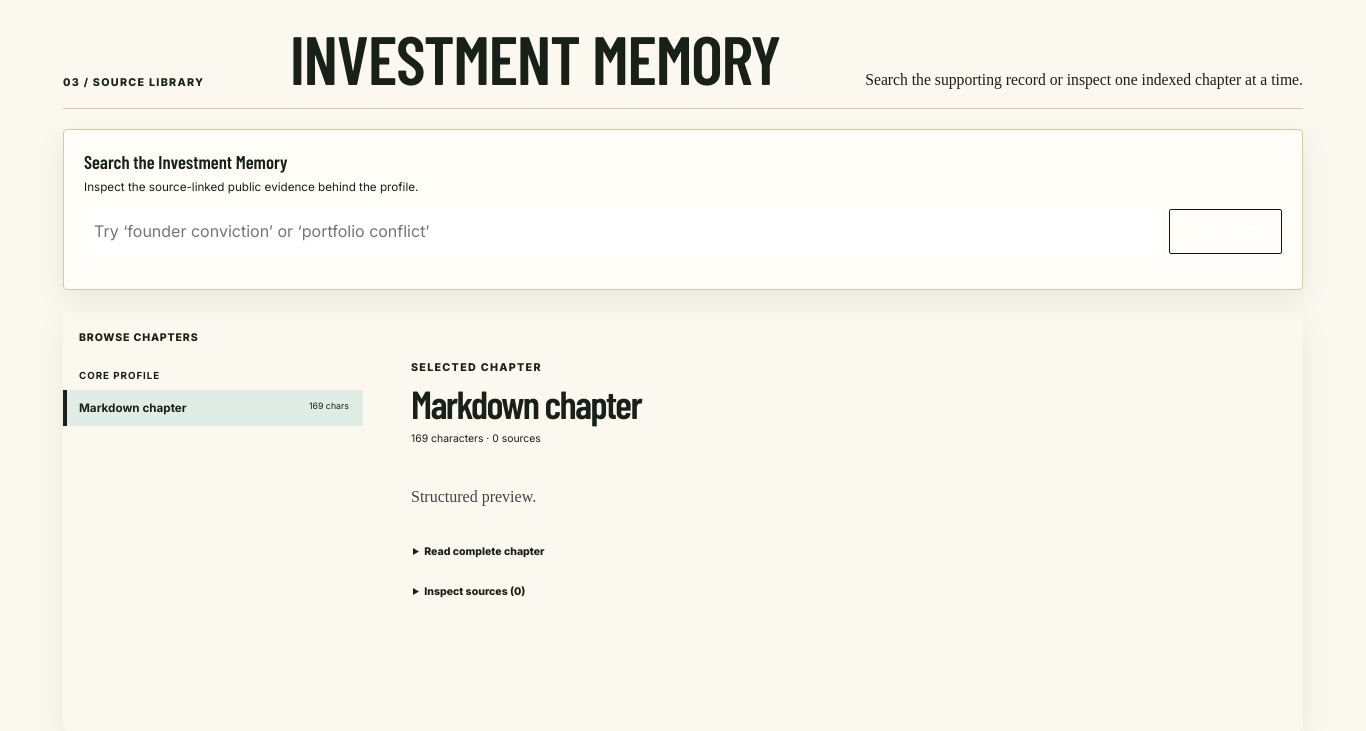
Test: InvestmentMemoryLibrary › renders complete chapter Markdown as safe semantic content
Click the heading "Read complete chapter" at (484, 552), box [424, 545, 544, 558]
(page scrolled)
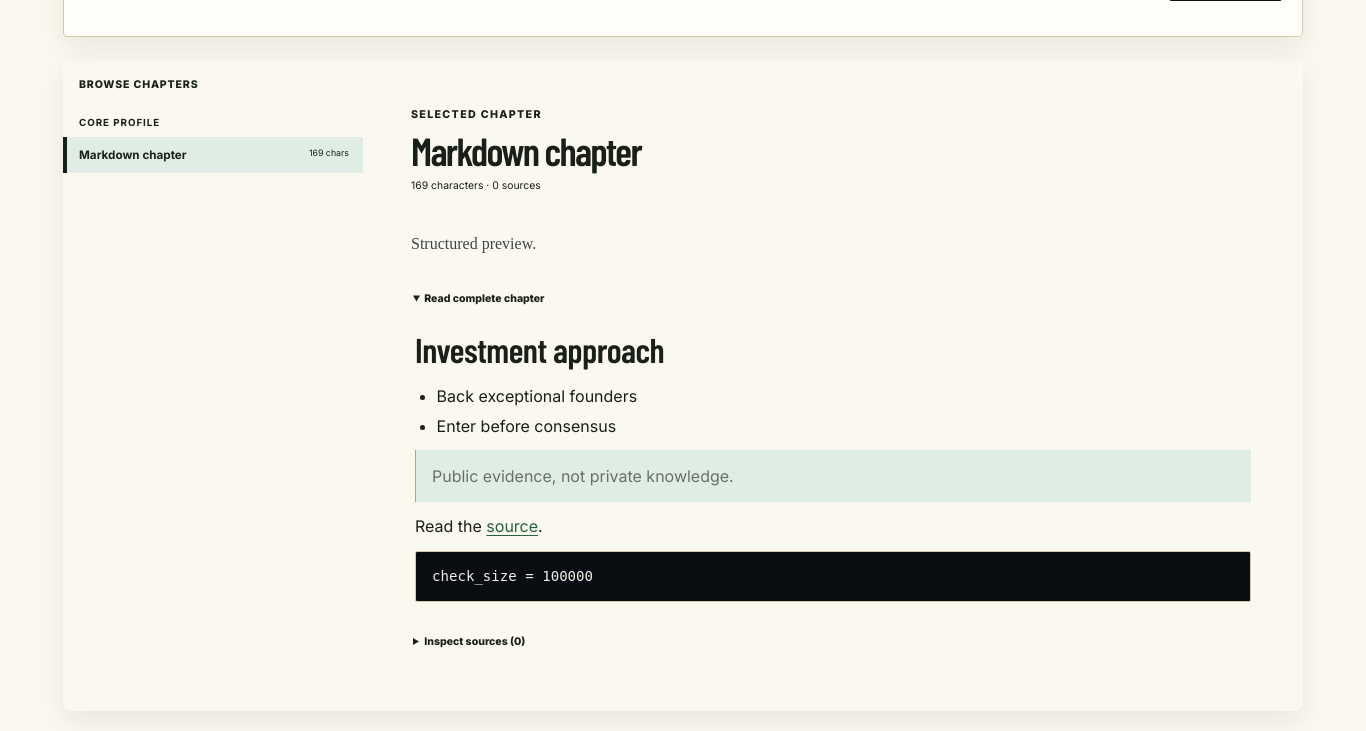
Result: the heading "Investment approach" is shown at [415, 330, 664, 370]
Result: the list "Back exceptional founders Enter before consensus" is shown at [437, 386, 637, 436]
Result: the text "Public evidence, not private knowledge." is shown at [415, 450, 1251, 502]
